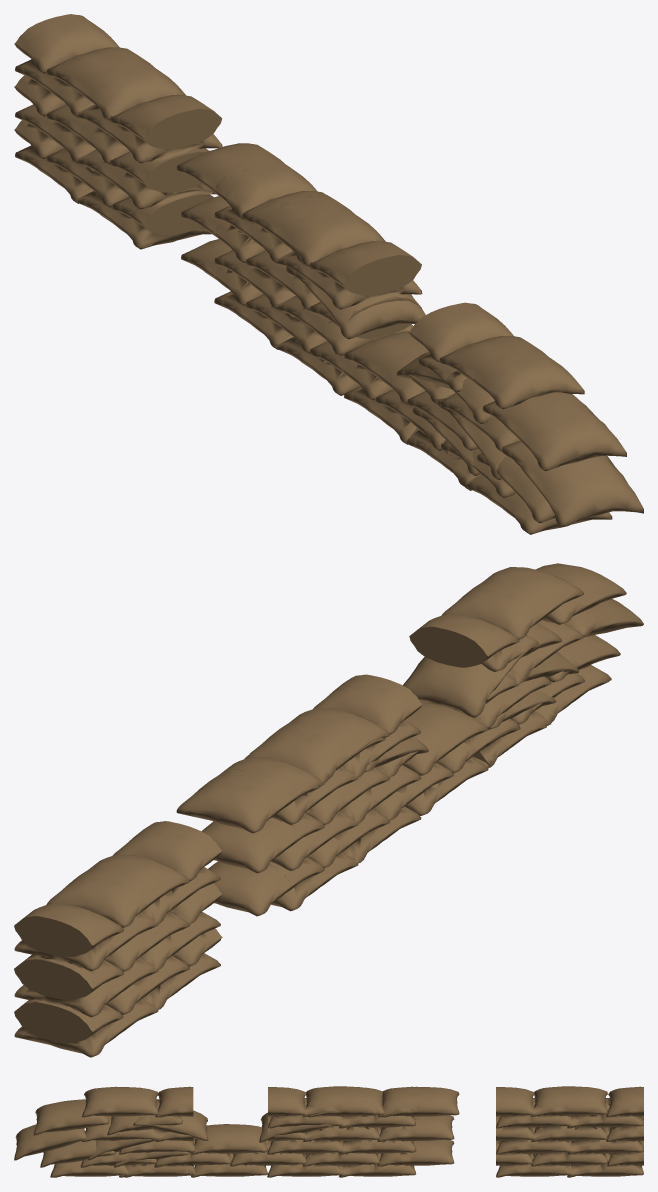
File: barricades_L.fbx
The picture shows the model from 3 angles, top to bottom: view 1: azimuth 30°, elevation 25°; view 2: azimuth 150°, elevation 25°; view 3: azimuth 270°, elevation 25°; orthographic projection. The views are drawn at different scales.
Visible parts, largest first — view 1: Sandbag_LQ, Sandbag_LQ.001, Sandbag_LQ.017, Sandbag_LQ.006, Sandbag_LQ.016, Sandbag_LQ.014, Sandbag_LQ.012, Sandbag_LQ.018, Sandbag_LQ.031, Sandbag_LQ.008, Sandbag_LQ.007, Sandbag_LQ.015 (+3 smaller); view 2: Sandbag_LQ, Sandbag_LQ.017, Sandbag_LQ.001, Sandbag_LQ.006, Sandbag_LQ.014, Sandbag_LQ.018, Sandbag_LQ.022, Sandbag_LQ.029, Sandbag_LQ.016, Sandbag_LQ.012, Sandbag_LQ.008, Sandbag_LQ.007 (+2 smaller); view 3: Sandbag_LQ, Sandbag_LQ.001, Sandbag_LQ.006, Sandbag_LQ.017, Sandbag_LQ.014, Sandbag_LQ.016, Sandbag_LQ.018, Sandbag_LQ.012, Sandbag_LQ.029, Sandbag_LQ.022, Sandbag_LQ.028, Sandbag_LQ.008 (+18 smaller).
Boxes of the visible parts, x1=… form: Sandbag_LQ: x1=14, y1=14, x2=222, y2=249; Sandbag_LQ.001: x1=214, y1=160, x2=422, y2=391; Sandbag_LQ.017: x1=213, y1=159, x2=544, y2=490; Sandbag_LQ.006: x1=406, y1=302, x2=524, y2=530; Sandbag_LQ.016: x1=482, y1=392, x2=626, y2=471; Sandbag_LQ.014: x1=439, y1=336, x2=584, y2=409; Sandbag_LQ.012: x1=502, y1=440, x2=643, y2=527; Sandbag_LQ.018: x1=176, y1=143, x2=297, y2=194; Sandbag_LQ.031: x1=289, y1=266, x2=425, y2=338; Sandbag_LQ.008: x1=477, y1=453, x2=555, y2=523; Sandbag_LQ.007: x1=439, y1=394, x2=519, y2=451; Sandbag_LQ.015: x1=467, y1=483, x2=612, y2=534; Sandbag_LQ: x1=14, y1=821, x2=222, y2=1057; Sandbag_LQ.017: x1=233, y1=579, x2=552, y2=911; Sandbag_LQ.001: x1=222, y1=674, x2=422, y2=904; Sandbag_LQ.006: x1=409, y1=614, x2=609, y2=766; Sandbag_LQ.014: x1=441, y1=567, x2=583, y2=639; Sandbag_LQ.018: x1=176, y1=764, x2=292, y2=833; Sandbag_LQ.022: x1=208, y1=857, x2=312, y2=916; Sandbag_LQ.029: x1=201, y1=813, x2=311, y2=873; Sandbag_LQ.016: x1=535, y1=563, x2=626, y2=624; Sandbag_LQ.012: x1=565, y1=599, x2=643, y2=637; Sandbag_LQ.008: x1=548, y1=635, x2=620, y2=682; Sandbag_LQ.007: x1=510, y1=620, x2=583, y2=680; Sandbag_LQ: x1=496, y1=1086, x2=643, y2=1177; Sandbag_LQ.001: x1=268, y1=1086, x2=415, y2=1177; Sandbag_LQ.006: x1=54, y1=1086, x2=193, y2=1177; Sandbag_LQ.017: x1=119, y1=1087, x2=416, y2=1176; Sandbag_LQ.014: x1=81, y1=1086, x2=158, y2=1117; Sandbag_LQ.016: x1=33, y1=1099, x2=109, y2=1135; Sandbag_LQ.018: x1=382, y1=1086, x2=459, y2=1117; Sandbag_LQ.012: x1=14, y1=1124, x2=86, y2=1160; Sandbag_LQ.029: x1=377, y1=1115, x2=454, y2=1141; Sandbag_LQ.022: x1=377, y1=1140, x2=454, y2=1166; Sandbag_LQ.028: x1=191, y1=1135, x2=267, y2=1154; Sandbag_LQ.008: x1=40, y1=1131, x2=115, y2=1167.
Bounding box in the file's own units: 315 × 509 × 3581.
